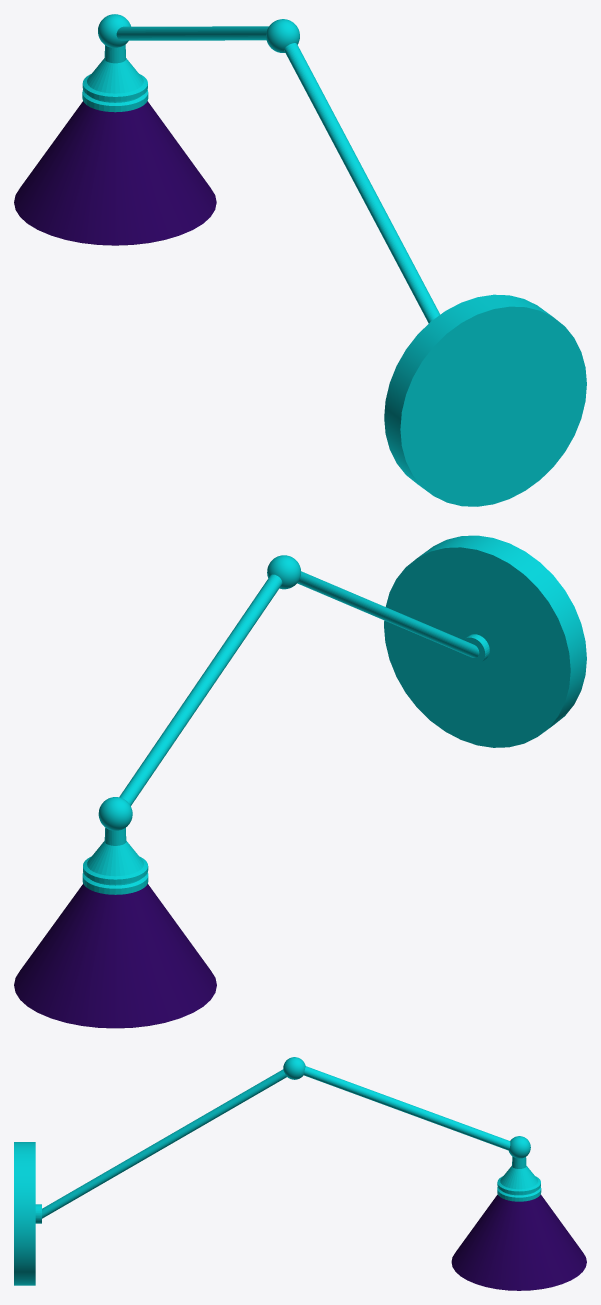
File: tight_LED1.fbx
The picture shows the model from 3 angles, top to bottom: view 1: azimuth 30°, elevation 25°; view 2: azimuth 150°, elevation 25°; view 3: azimuth 270°, elevation 25°; orthographic projection. The views are drawn at different scales.
Parts seen in each view (by area): view 1: Sphere005; view 2: Sphere005; view 3: Sphere005.
Boxes of the visible parts, box(x1,y1,x2,y2) form: Sphere005: box(14, 14, 586, 506); Sphere005: box(14, 535, 586, 1028); Sphere005: box(14, 1057, 586, 1290).
Size of the model in its own units: 3.35 by 5.67 by 13.34.
